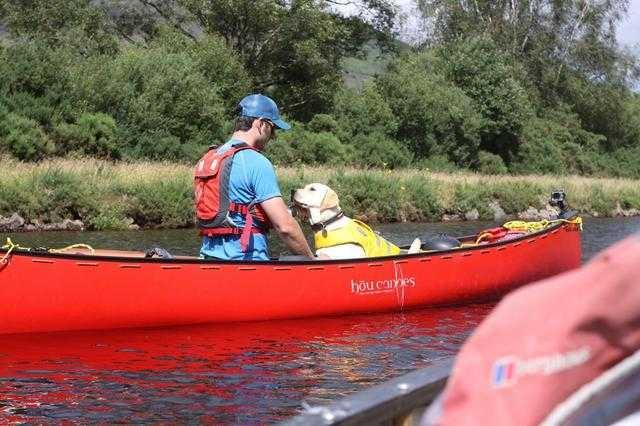kayak: (0, 214, 591, 331), (420, 232, 639, 421)
